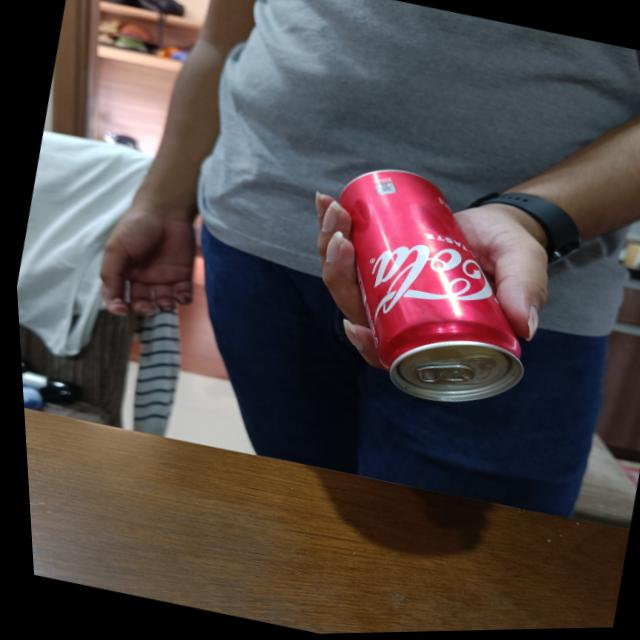coke: (298, 156, 559, 426)
